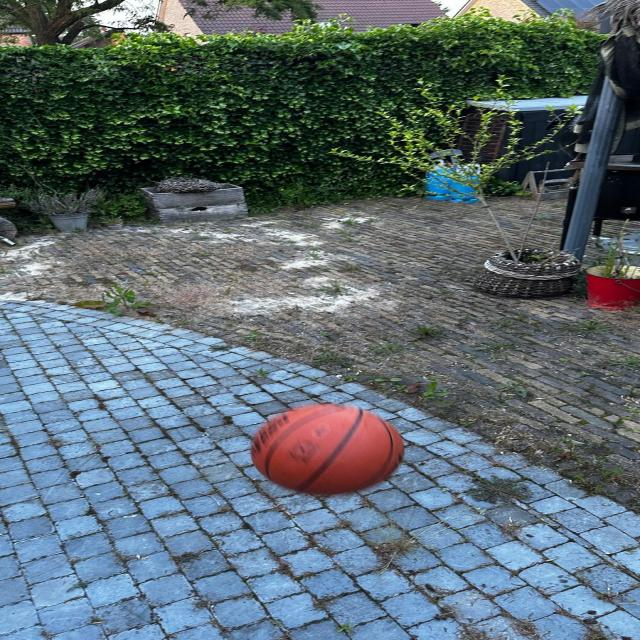Basketball: (256, 406, 407, 494)
